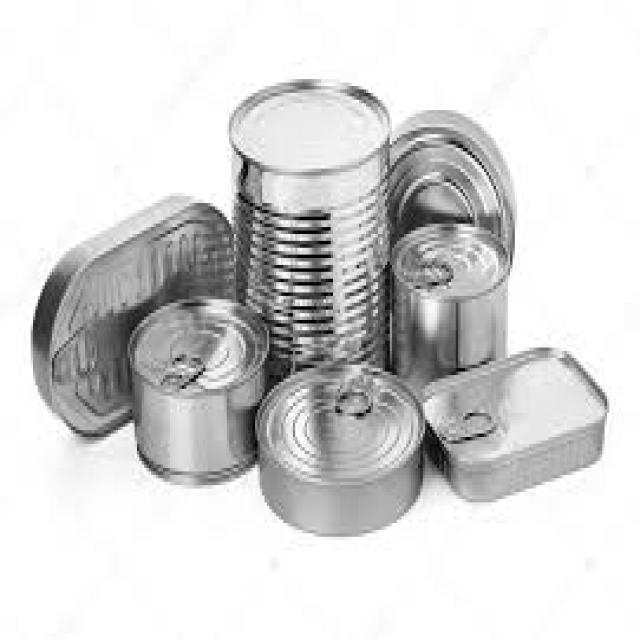recyclable: (22, 171, 244, 441), (220, 63, 403, 374), (247, 348, 423, 549), (429, 326, 609, 504), (125, 288, 268, 488), (389, 213, 525, 400)
